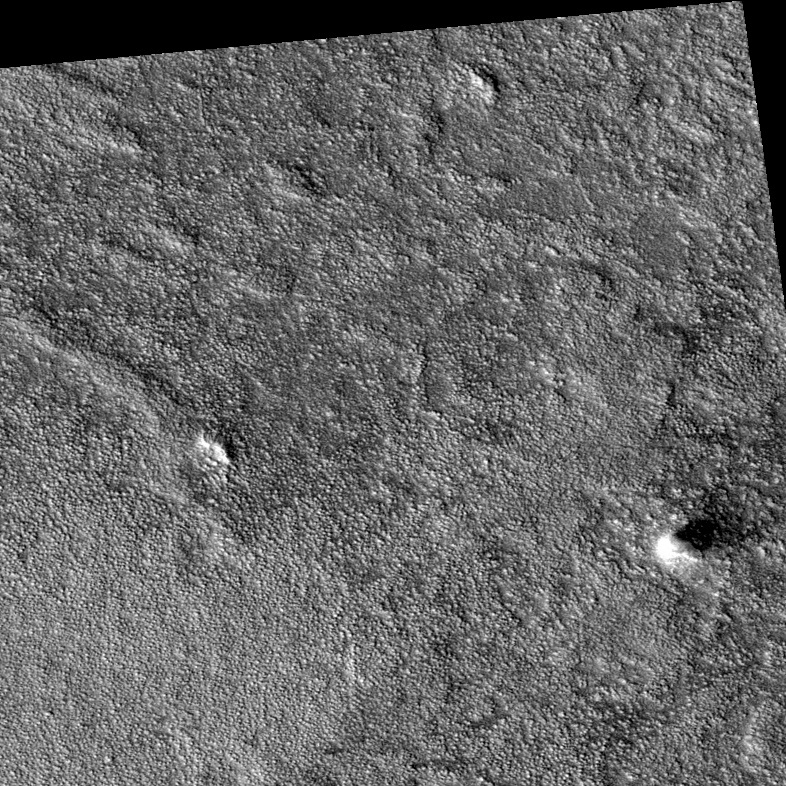dust_devil: (654, 515, 745, 572)
